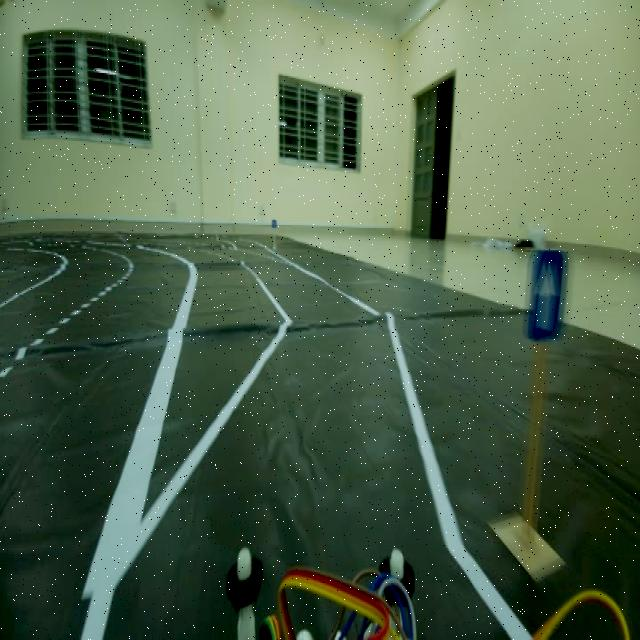onewayroad: (521, 244, 572, 345)
